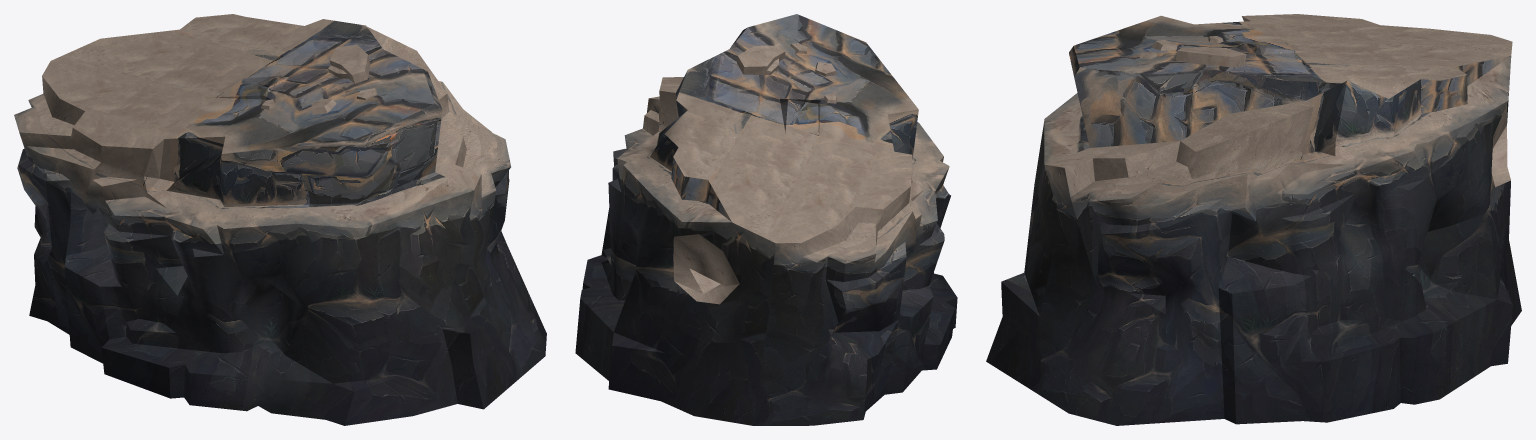
3 views of the same model, side by side, from view 1: azimuth 30°, elevation 25°; view 2: azimuth 150°, elevation 25°; view 3: azimuth 270°, elevation 25° (orthographic). The views are drawn at different scales.
Parts seen in each view (by area): view 1: 58020; view 2: 58020; view 3: 58020.
Boxes of the visible parts, x1,y1,x2,y2 form: 58020: (14,14,546,425); 58020: (575,14,957,425); 58020: (986,14,1521,425).
Bounding box in the file's own units: 245 × 172 × 278.
1 material, 1 textured.
